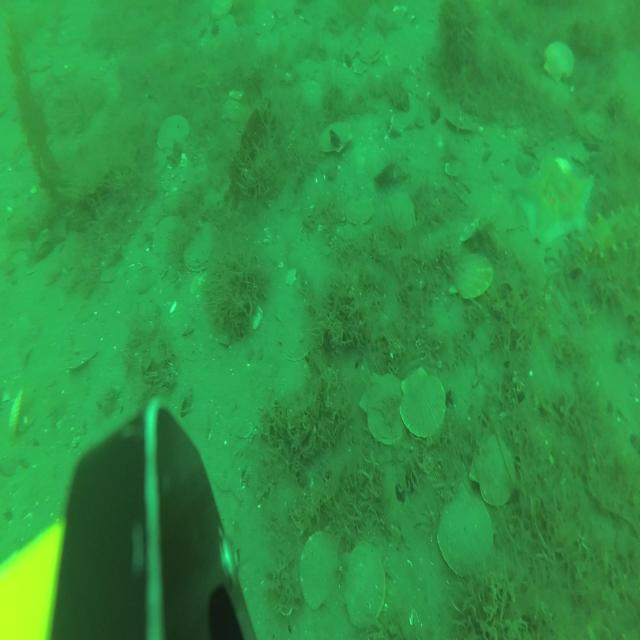holothurian: (581, 186, 640, 270)
scallop: (439, 482, 496, 578), (359, 370, 409, 450), (342, 539, 386, 626), (471, 428, 516, 503), (301, 530, 338, 616), (399, 366, 442, 438), (456, 248, 494, 306), (185, 221, 217, 276), (544, 36, 578, 85), (158, 114, 188, 158), (154, 216, 182, 260), (442, 103, 473, 142), (389, 196, 418, 237), (347, 197, 377, 231), (581, 105, 607, 142), (359, 34, 388, 67), (320, 123, 348, 154), (252, 10, 275, 38), (209, 1, 234, 22)
starfish: (520, 149, 596, 260)
